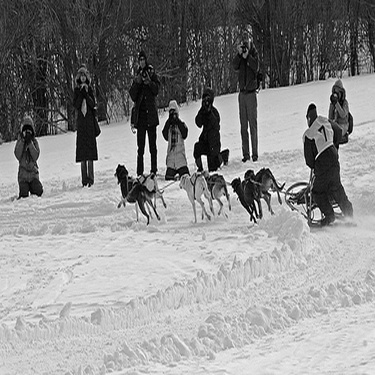dog: (110, 163, 159, 226), (228, 173, 275, 225), (191, 165, 231, 219), (176, 172, 217, 223), (241, 166, 284, 213), (132, 165, 167, 212)
